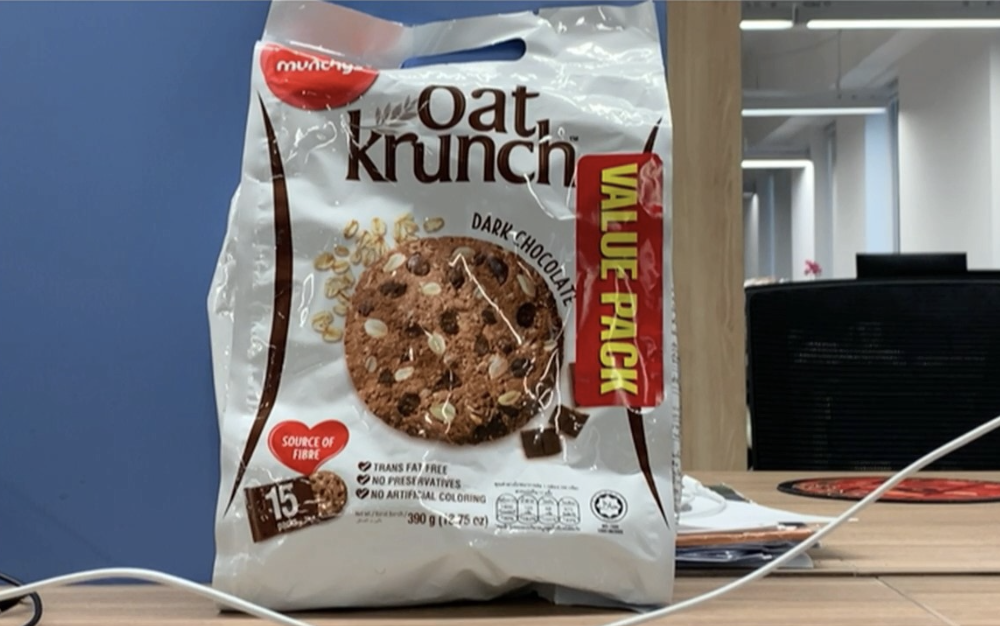cookies_450g: (258, 64, 648, 547)
